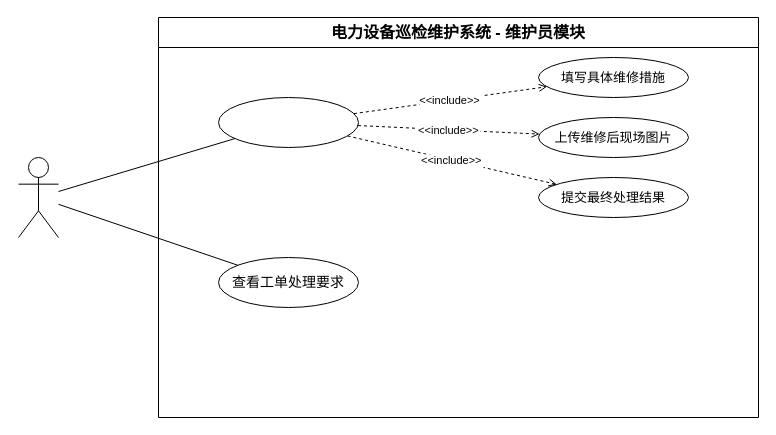
Some shapes in this 776 by 435 pixel diagram are drawn without their labels. The box of each missing label's shape, as (x1, y1, x2, y2) in pixels:
处理维护工单: (218, 96, 358, 148)
维护员: (18, 156, 58, 238)
